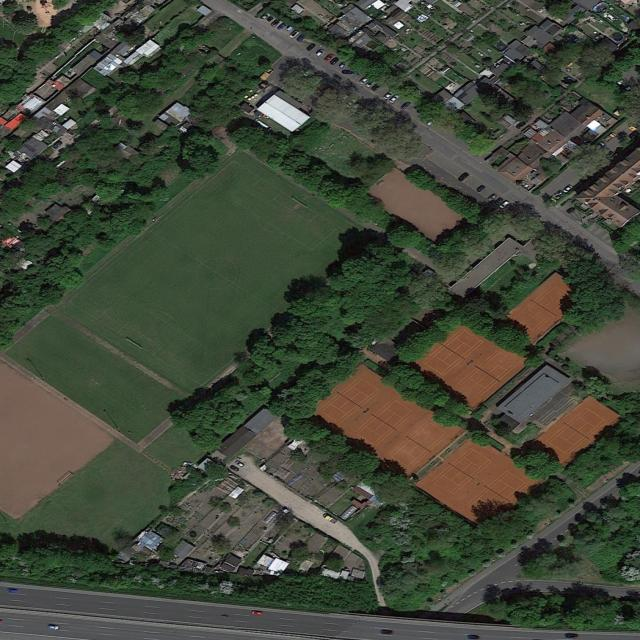small-vehicle: (602, 131, 618, 144), (456, 172, 471, 182), (259, 11, 272, 22), (381, 90, 394, 100), (399, 100, 412, 110), (324, 52, 335, 63), (487, 192, 499, 202), (51, 140, 63, 150), (270, 17, 282, 27), (358, 76, 371, 85), (294, 33, 307, 42), (289, 29, 300, 39), (365, 78, 376, 88), (493, 196, 504, 206), (388, 94, 400, 103), (562, 184, 574, 193), (499, 200, 511, 209), (305, 43, 317, 52), (371, 82, 382, 91), (565, 205, 576, 214), (594, 142, 605, 151), (475, 184, 486, 193), (233, 460, 245, 468), (315, 48, 325, 57), (277, 22, 288, 30), (329, 57, 340, 65), (229, 464, 239, 472), (251, 610, 264, 616), (341, 69, 355, 74), (380, 630, 393, 635), (339, 61, 347, 69), (426, 119, 435, 126), (564, 633, 578, 637), (467, 635, 481, 639)
